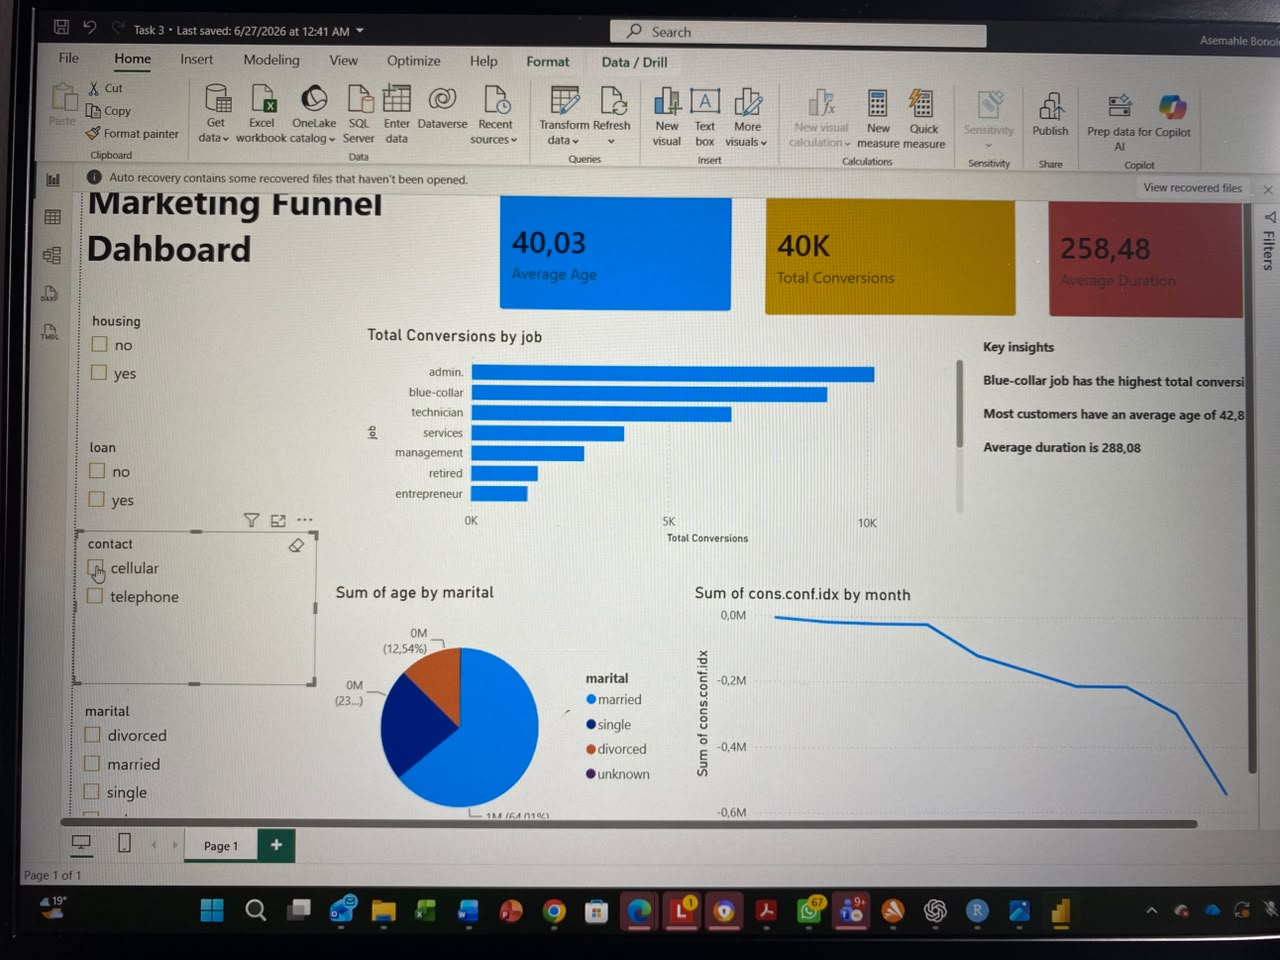

Layout of this report page (visuals, bound fields, positions):
{"tool":"powerbi","page":{"name":"Page 1","canvas":[1280,720],"ordinal":0},"visuals":[{"type":"cardVisual","fields":{"Data":["bank-additional-full.Average Duration"]},"box":[1000.3,0,279.9,163.3],"z":0},{"type":"cardVisual","fields":{"Data":["bank-additional-full.Average Age"]},"box":[419.9,0,279.9,159.2],"z":1},{"type":"lineChart","fields":{"Category":["bank-additional-full.month"],"Y":["Sum(bank-additional-full.cons.conf.idx)"]},"box":[639.5,428.1,336.2,279.9],"z":2},{"type":"pieChart","fields":{"Category":["bank-additional-full.marital"],"Y":["Sum(bank-additional-full.age)"]},"box":[266.2,428.1,347.2,279.9],"z":3},{"type":"cardVisual","fields":{"Data":["bank-additional-full.Total Conversions"]},"box":[699.8,0,300.5,163.3],"z":4},{"type":"barChart","fields":{"Category":["bank-additional-full.job"],"Y":["bank-additional-full.Total Conversions"]},"box":[295.3,159.3,636,232.6],"z":5},{"type":"scatterChart","box":[1000.3,428.1,279.9,279.9],"z":6},{"type":"slicer","fields":{"Values":["bank-additional-full.marital"]},"box":[0,548.9,251.1,159.2],"z":7},{"type":"slicer","fields":{"Values":["bank-additional-full.contact"]},"box":[0,376,251.1,159.2],"z":8},{"type":"slicer","fields":{"Values":["bank-additional-full.loan"]},"box":[0,252.5,279.9,90.6],"z":9},{"type":"textbox","box":[0,0,419.9,159.2],"z":10},{"type":"slicer","fields":{"Values":["bank-additional-full.housing"]},"box":[0,144.1,251.1,86.4],"z":11},{"type":"textbox","box":[941.9,162.8,318.6,232.6],"z":12}]}

Visuals, with their boxes on the page's 1280x720 design canvas (x1, y1, x2, y2). These are canvas units, not pixel positions in the 1280x960 screenshot, which may show the page scaled, cropped or inside an application window:
cardVisual - bank-additional-full.Average Duration: 1000/0/1280/163
cardVisual - bank-additional-full.Average Age: 420/0/700/159
lineChart - bank-additional-full.month x Sum(bank-additional-full.cons.conf.idx): 640/428/976/708
pieChart - bank-additional-full.marital x Sum(bank-additional-full.age): 266/428/613/708
cardVisual - bank-additional-full.Total Conversions: 700/0/1000/163
barChart - bank-additional-full.job x bank-additional-full.Total Conversions: 295/159/931/392
scatterChart: 1000/428/1280/708
slicer - bank-additional-full.marital: 0/549/251/708
slicer - bank-additional-full.contact: 0/376/251/535
slicer - bank-additional-full.loan: 0/252/280/343
textbox: 0/0/420/159
slicer - bank-additional-full.housing: 0/144/251/230
textbox: 942/163/1260/395
